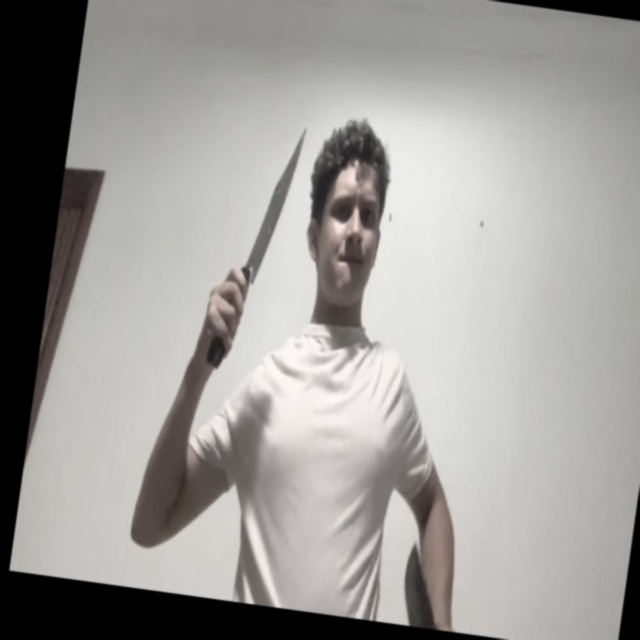Sharp-Object: (245, 125, 307, 287)
